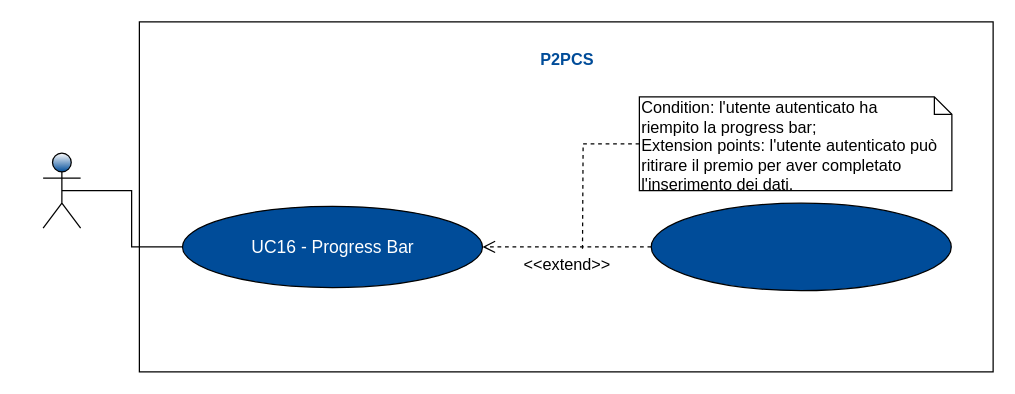
Image size: 1015x394. Some labels were removed from this diagram. The shapes that lost their labels are listed below. From the top down, each one's centre as x and y in pixels, then its label:
At [61,190]: "Utente autenticato".
At [800,246]: "UC17 - Ritiro premio per il completo riempimento della progress bar".
